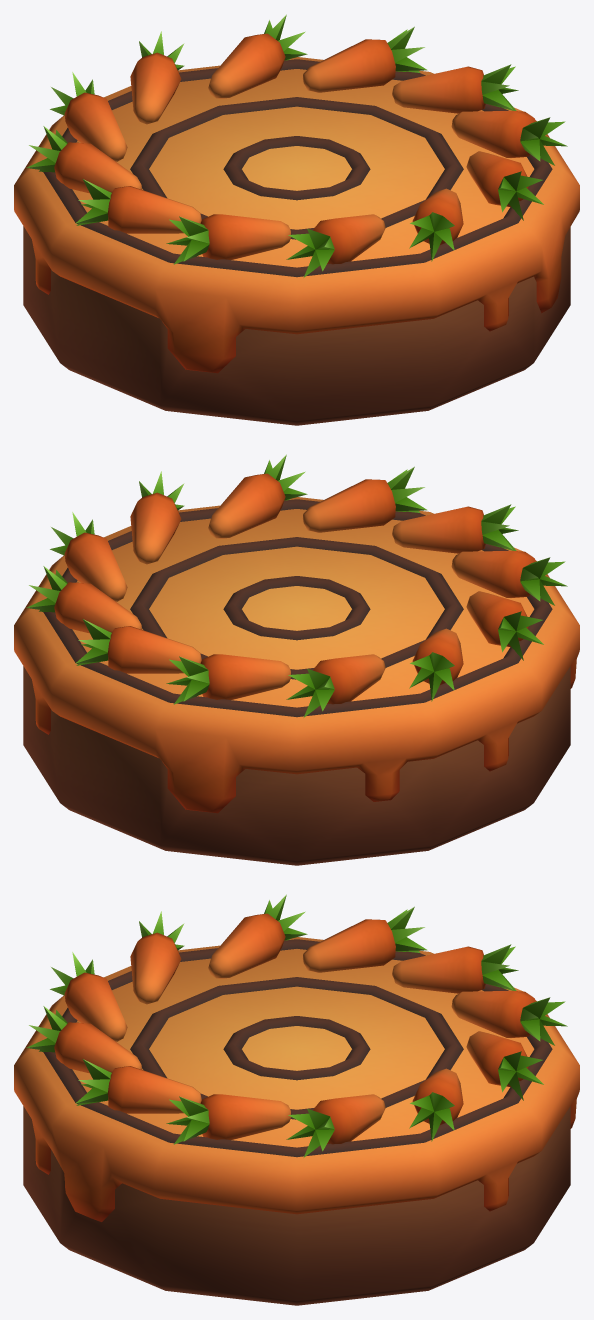
File: m_CarrotCake01.fbx
3 renders of one model, top to bottom at view 1: azimuth 30°, elevation 25°; view 2: azimuth 150°, elevation 25°; view 3: azimuth 270°, elevation 25°, orthographic.
Parts seen in each view (by area): view 1: m_CarrotCake01; view 2: m_CarrotCake01; view 3: m_CarrotCake01.
Part boxes in pixels (bbox=[...]): m_CarrotCake01: bbox=[14, 14, 579, 425]; m_CarrotCake01: bbox=[14, 454, 579, 865]; m_CarrotCake01: bbox=[14, 894, 579, 1305].
Size of the model in its own units: 28.97 by 10.91 by 28.97.
